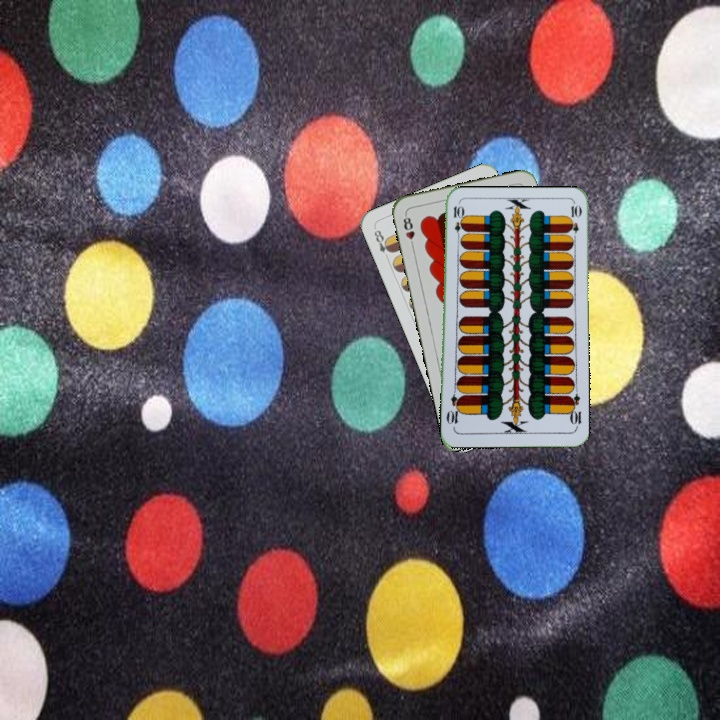E10: (565, 390, 584, 431), (450, 202, 463, 242)
E8: (370, 224, 395, 263)
H8: (399, 210, 417, 250)
